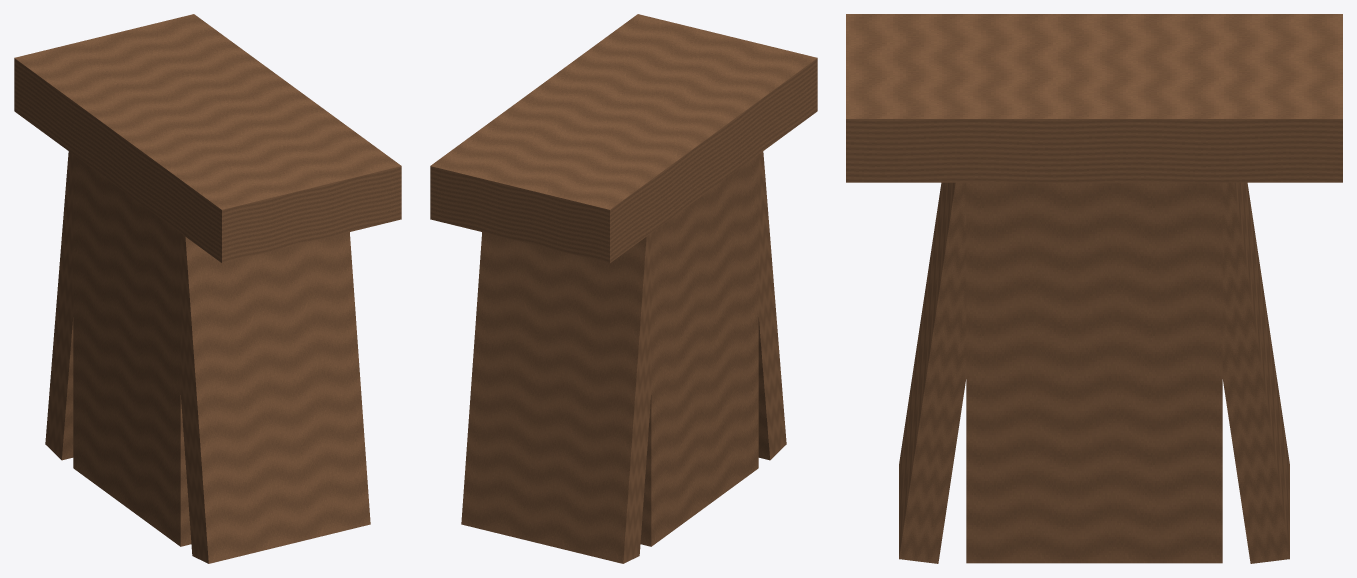
3 renders of one model, left to right at view 1: azimuth 30°, elevation 25°; view 2: azimuth 150°, elevation 25°; view 3: azimuth 270°, elevation 25°, orthographic. The views are drawn at different scales.
Visible parts, largest first — view 1: 1 tabletop, 3 base_front_panel, 2 base_core, 4 base_back_panel; view 2: 1 tabletop, 4 base_back_panel, 2 base_core, 3 base_front_panel; view 3: 2 base_core, 1 tabletop, 3 base_front_panel, 4 base_back_panel.
Boxes of the visible parts, box(x1,y1,x2,y2) form: 1 tabletop: box(14, 14, 401, 263); 3 base_front_panel: box(169, 226, 370, 563); 2 base_core: box(73, 155, 191, 546); 4 base_back_panel: box(45, 151, 74, 460); 1 tabletop: box(430, 14, 817, 263); 4 base_back_panel: box(461, 224, 663, 563); 2 base_core: box(640, 155, 758, 546); 3 base_front_panel: box(758, 151, 786, 460); 2 base_core: box(966, 182, 1222, 563); 1 tabletop: box(846, 14, 1342, 182); 3 base_front_panel: box(899, 182, 990, 563); 4 base_back_panel: box(1198, 182, 1289, 563).
Bounding box in the file's own units: 0.3 × 0.5999 × 0.5999.
Materials: 1 (1 with a texture image).
